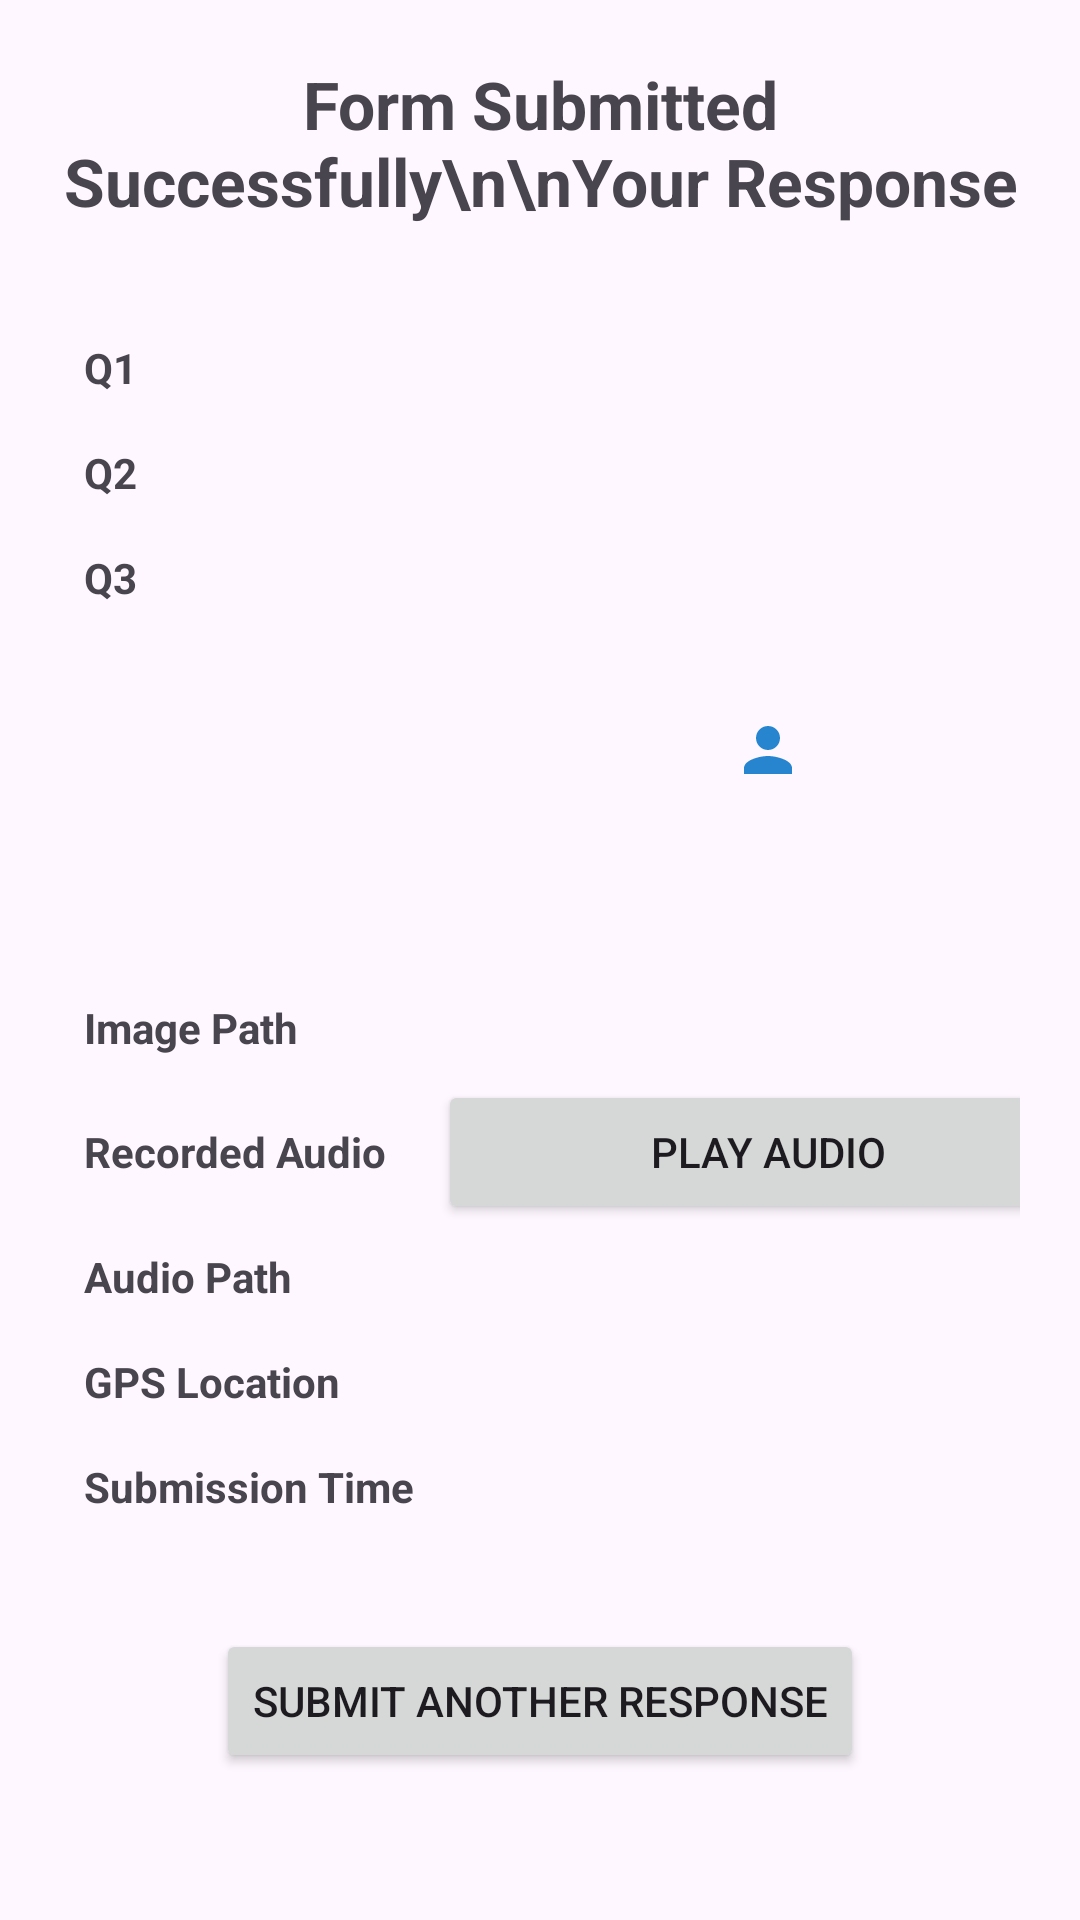

Locate icon controls on the screen. Image size 1080*1920, boxes as {"x1": x1, "y1": y1, "x2": x2, "y2": y2}.
person: {"x1": 744, "y1": 726, "x2": 792, "y2": 774}
